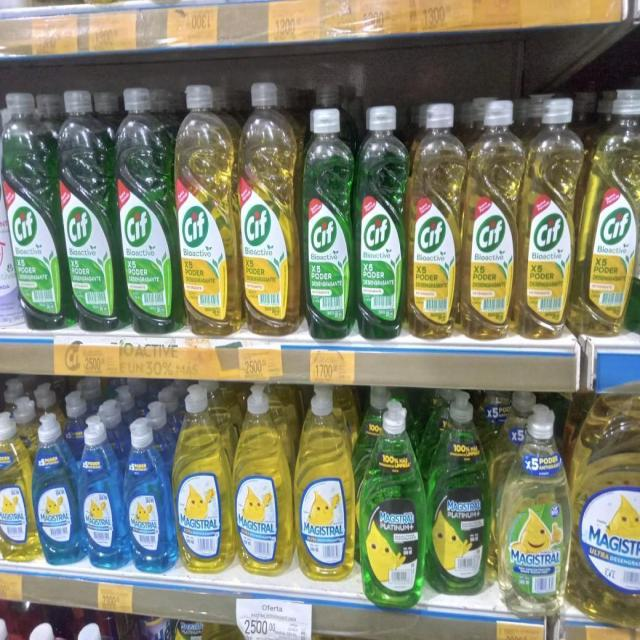cif_conc_bot_amarilla: (239, 79, 299, 337), (579, 87, 640, 335), (178, 81, 237, 337), (521, 95, 577, 340), (462, 97, 518, 340), (409, 99, 460, 339)
cif_conc_botella_verde: (117, 84, 176, 334), (61, 86, 115, 332), (303, 79, 353, 340), (6, 90, 60, 330), (356, 100, 406, 341), (0, 91, 12, 331)
magistral_con_amarillo: (572, 393, 640, 627), (296, 387, 354, 583), (234, 386, 292, 578), (176, 384, 232, 575), (0, 410, 33, 562), (174, 618, 216, 640)
magistral_con_azul: (126, 416, 174, 574), (80, 416, 124, 570), (34, 413, 78, 566)
